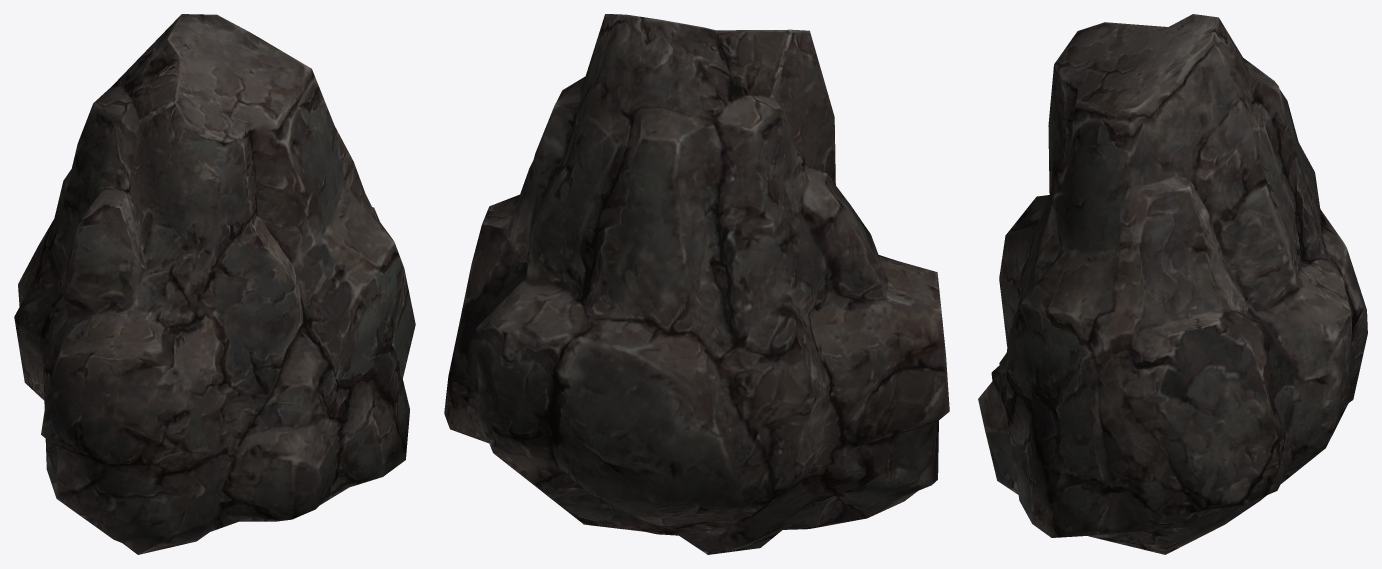
File: bal_env_mountain_boulder_med.glb
3 renders of one model, left to right at view 1: azimuth 30°, elevation 25°; view 2: azimuth 150°, elevation 25°; view 3: azimuth 270°, elevation 25°, orthographic. The views are drawn at different scales.
Visible parts, largest first — view 1: bal_env_mountain_boulder_med; view 2: bal_env_mountain_boulder_med; view 3: bal_env_mountain_boulder_med.
Part boxes in pixels (x1,y1,x2,y2): bal_env_mountain_boulder_med: [14, 14, 415, 554]; bal_env_mountain_boulder_med: [444, 14, 949, 554]; bal_env_mountain_boulder_med: [978, 14, 1367, 554].
Size of the model in its own units: 4.08 by 4.8 by 3.4.
1 material, 1 textured.
